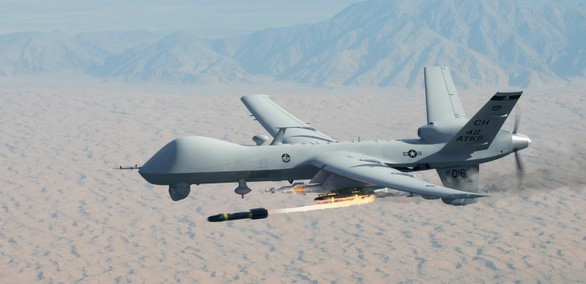maybay_khongnguoilai: (131, 70, 530, 204)
